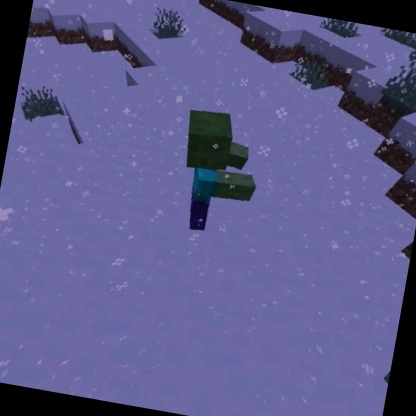zombie: (163, 103, 270, 243)
